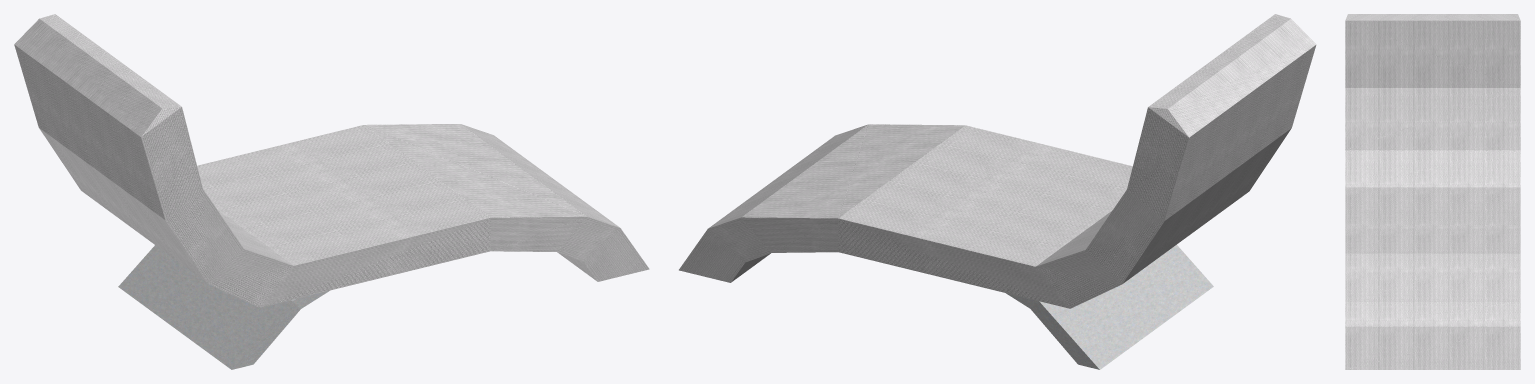
Rendered from frn_all_mdrn_love_seat_s01_l1.fbx.
The picture shows the model from 3 angles, left to right: view 1: azimuth 30°, elevation 25°; view 2: azimuth 150°, elevation 25°; view 3: azimuth 270°, elevation 25°; orthographic projection. The views are drawn at different scales.
Visible parts, largest first — view 1: mesh_node; view 2: mesh_node; view 3: mesh_node.
Part boxes in pixels (left/top/right/bottom): mesh_node: left=14, top=14, right=649, bottom=369; mesh_node: left=679, top=14, right=1316, bottom=369; mesh_node: left=1345, top=14, right=1520, bottom=369.
Bounding box in the file's own units: 2.35 × 1.25 × 1.02.
